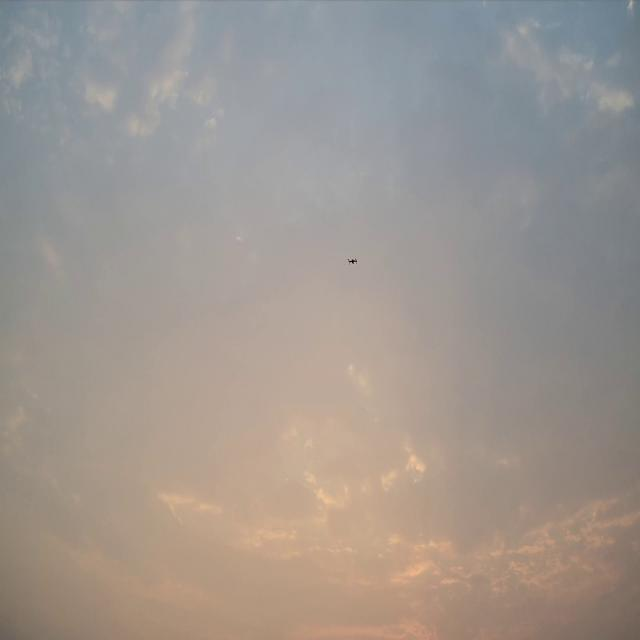drone: (347, 258, 357, 264)
